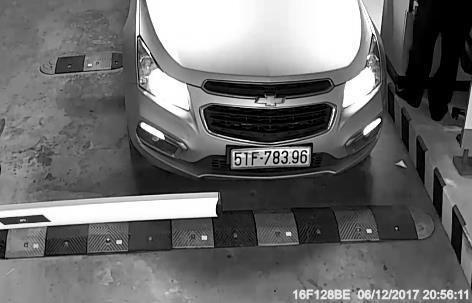License-plate: (210, 134, 323, 180)
